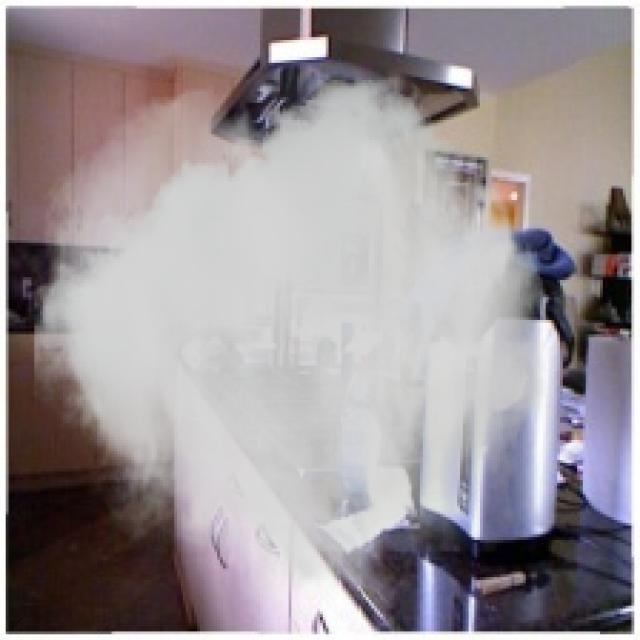Smoke: (34, 77, 554, 620)
